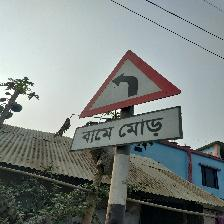Left-Turn: (73, 50, 184, 152)
